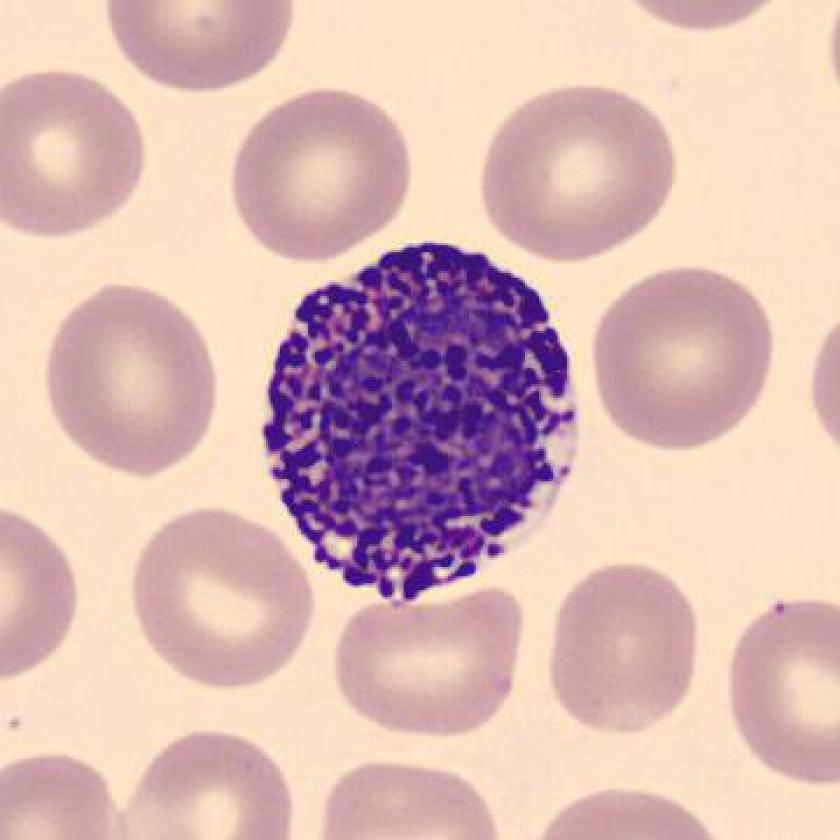basophil: (267, 235, 577, 596)
